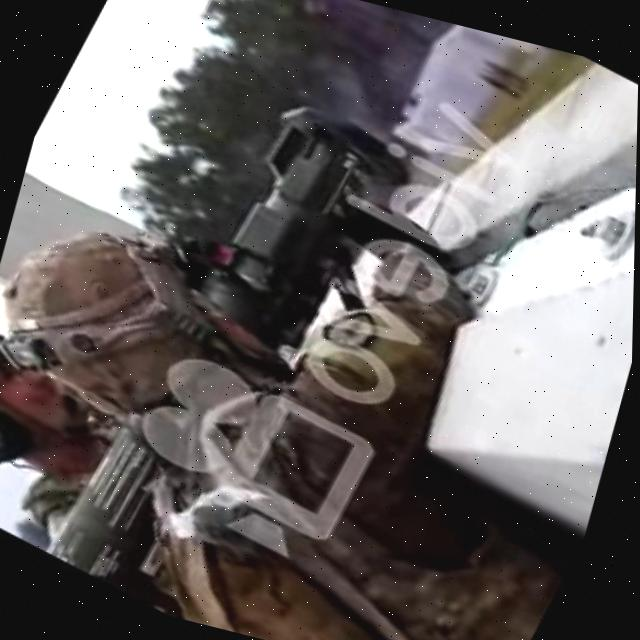rocket: (29, 58, 432, 640)
